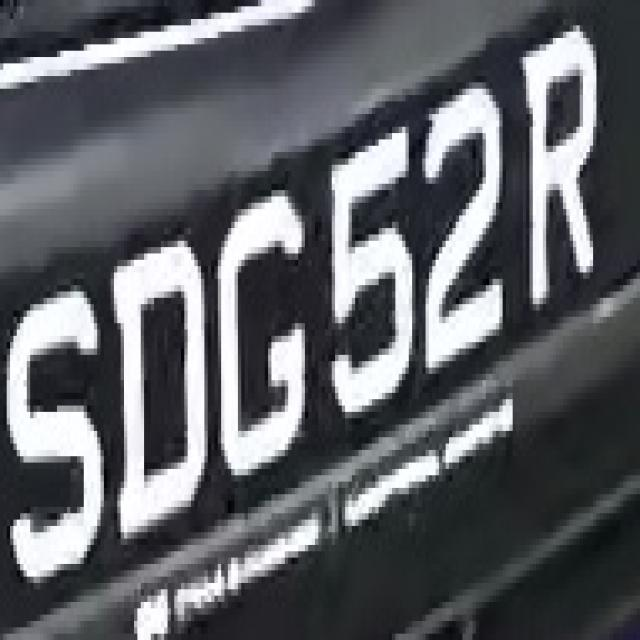2: (416, 70, 512, 406)
5: (318, 114, 422, 437)
D: (97, 234, 218, 552)
G: (208, 196, 315, 488)
R: (506, 32, 620, 285)
S: (10, 260, 107, 621)
